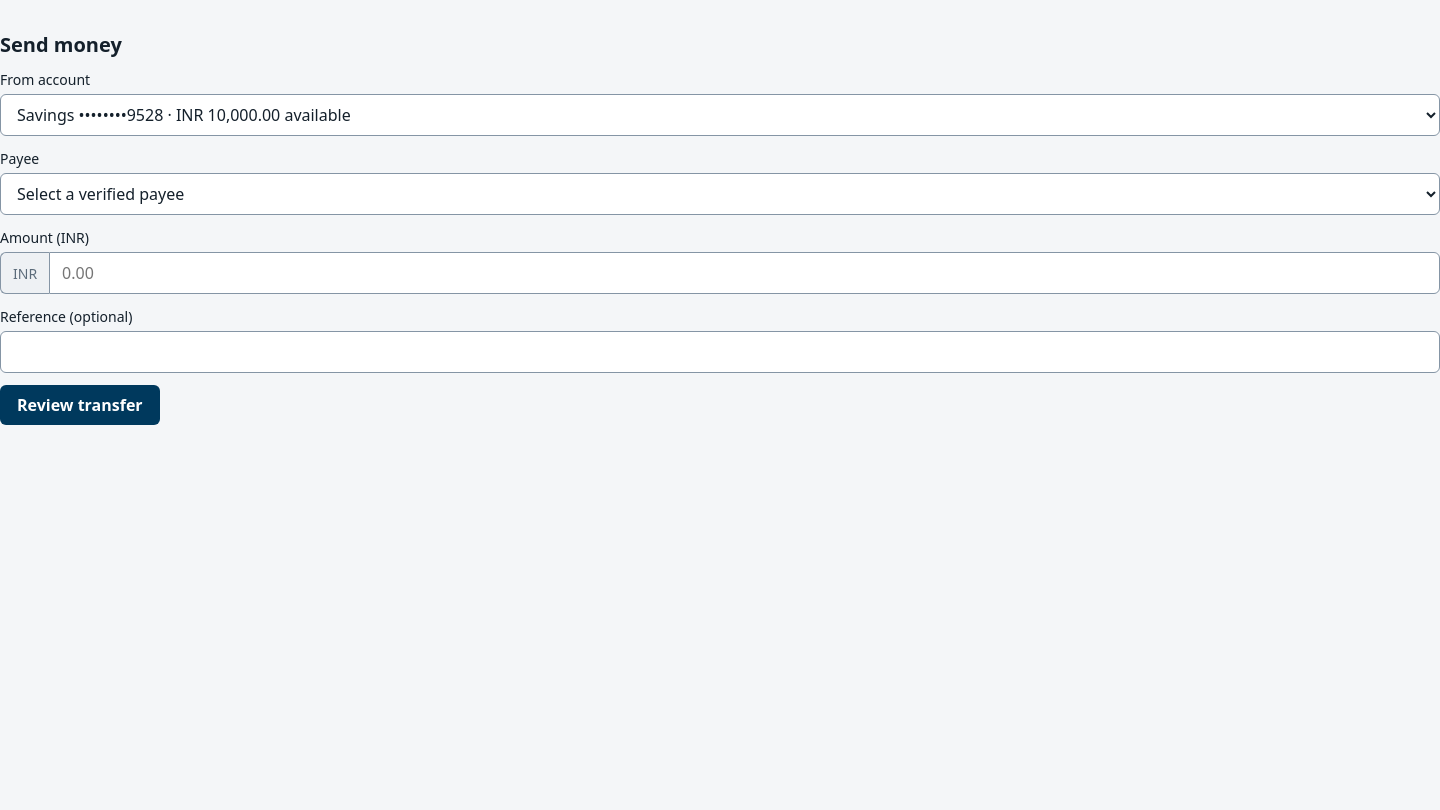
Test: SendMoney › closes the modal and says the transfer is under review when the server escalates
The width and height of the screenshot is (1440, 810).
Step 1. Select "Savings ••••••••9528 · INR 10,000.00 available" in the dropdown labelled "From account" → (720, 115), box [0,94,1439,136]
Step 2. Select "Bob Demo (••••••••2621)" in the dropdown labelled "Payee" → (720, 194), box [0,173,1439,215]
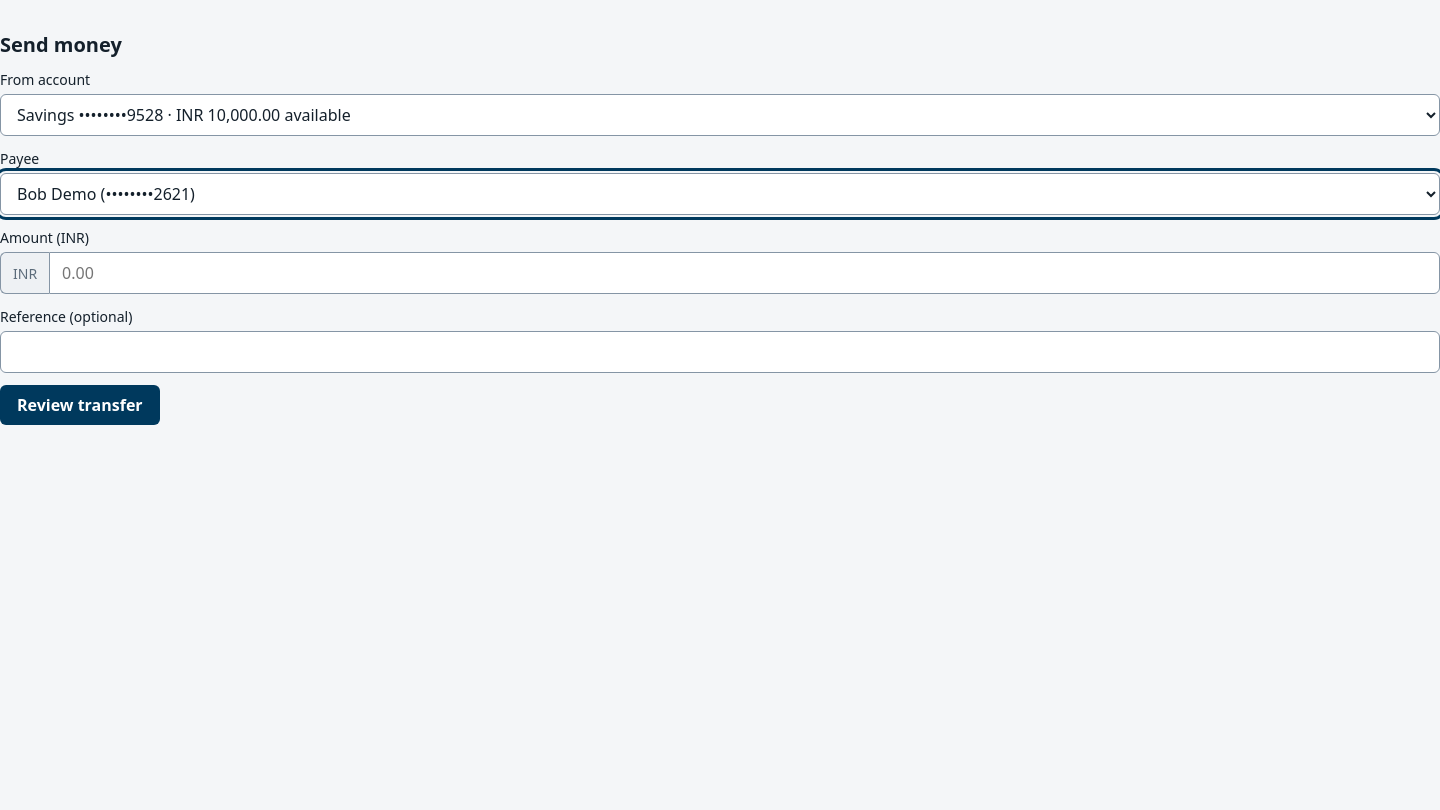
Step 3. Type "300" into the field labelled "Amount (INR)" → (745, 273), box [49,252,1439,294]
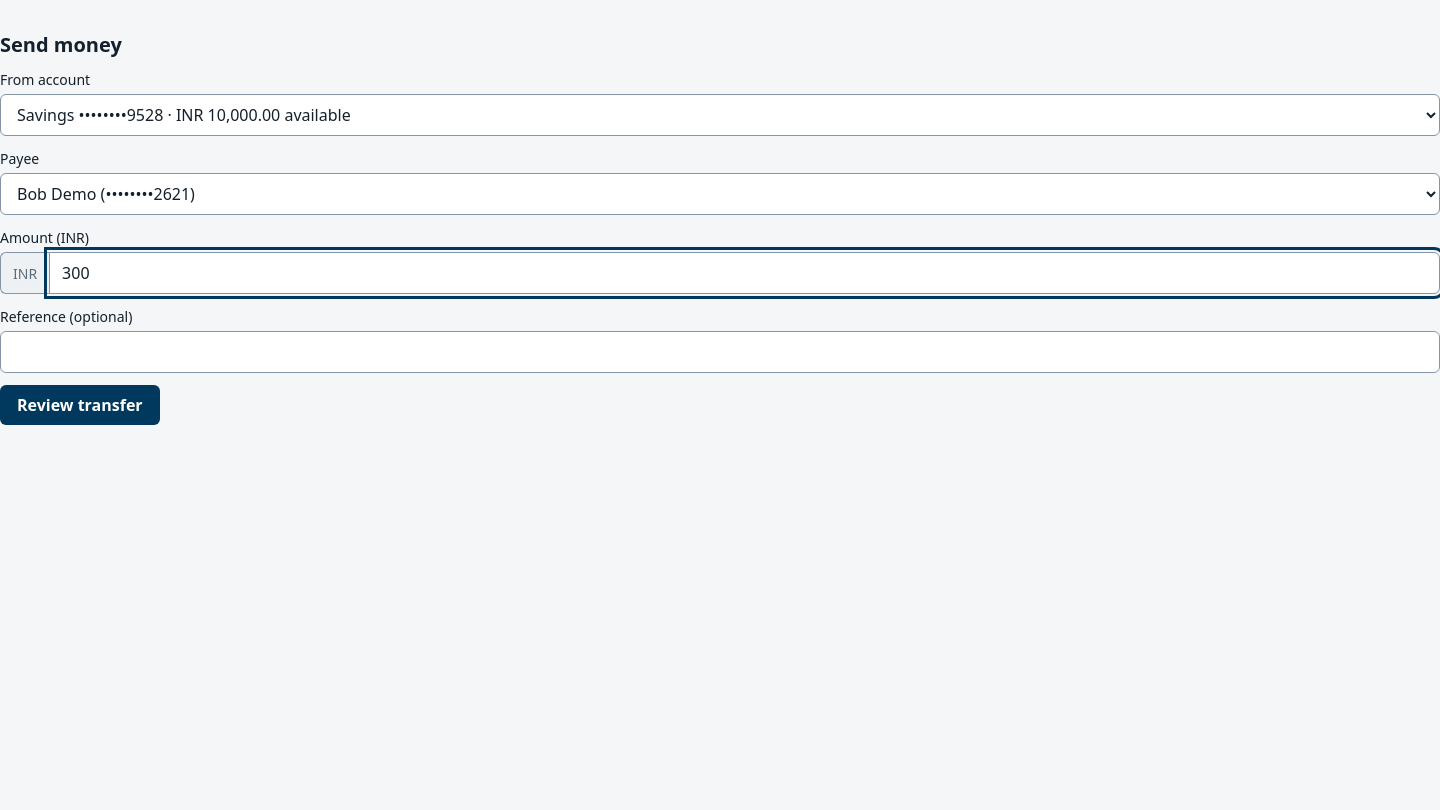
Step 4. Type "rent" into the field labelled "Reference (optional)" → (720, 352), box [0,331,1439,373]
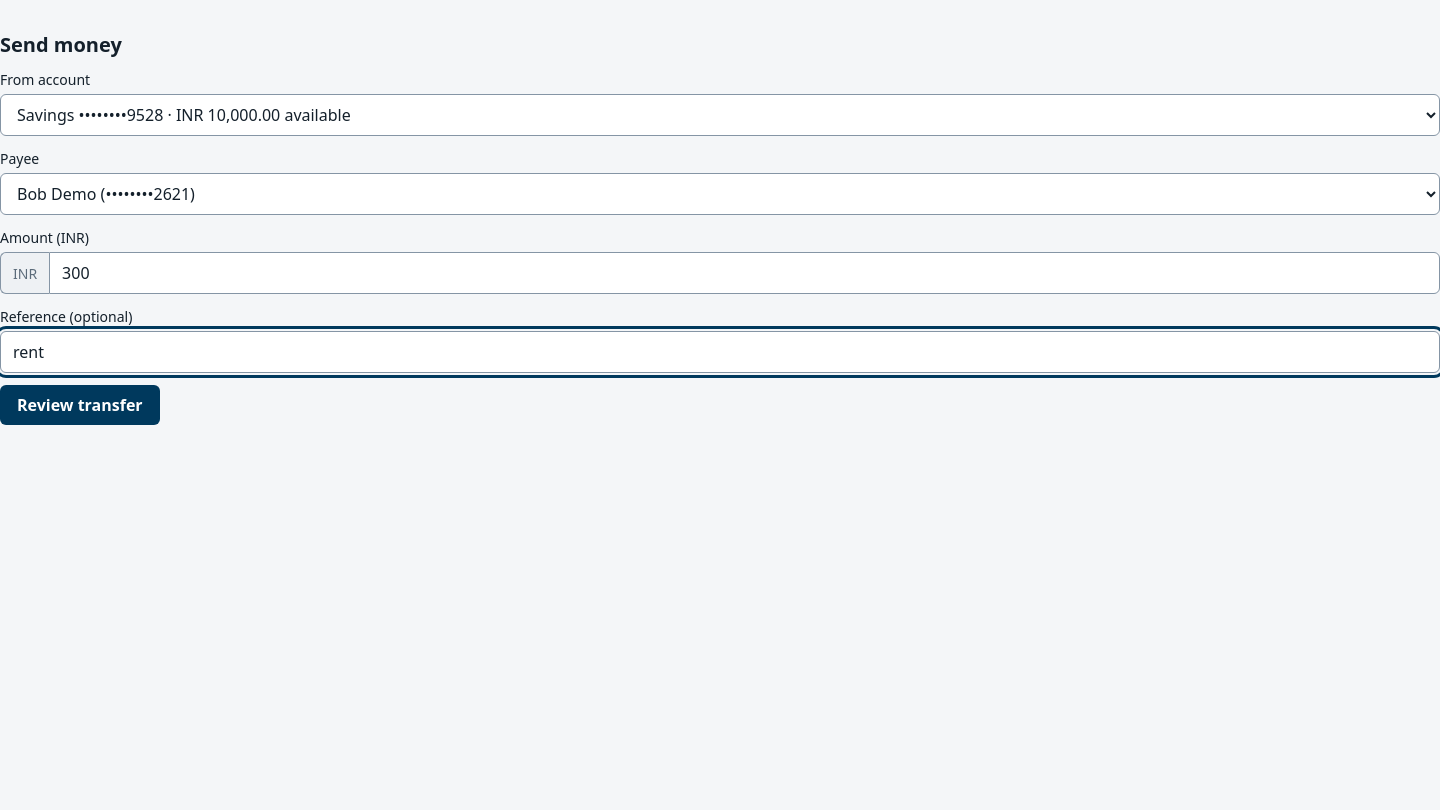
Step 5. Click the button "Review transfer" → (80, 405), box [0,385,160,425]
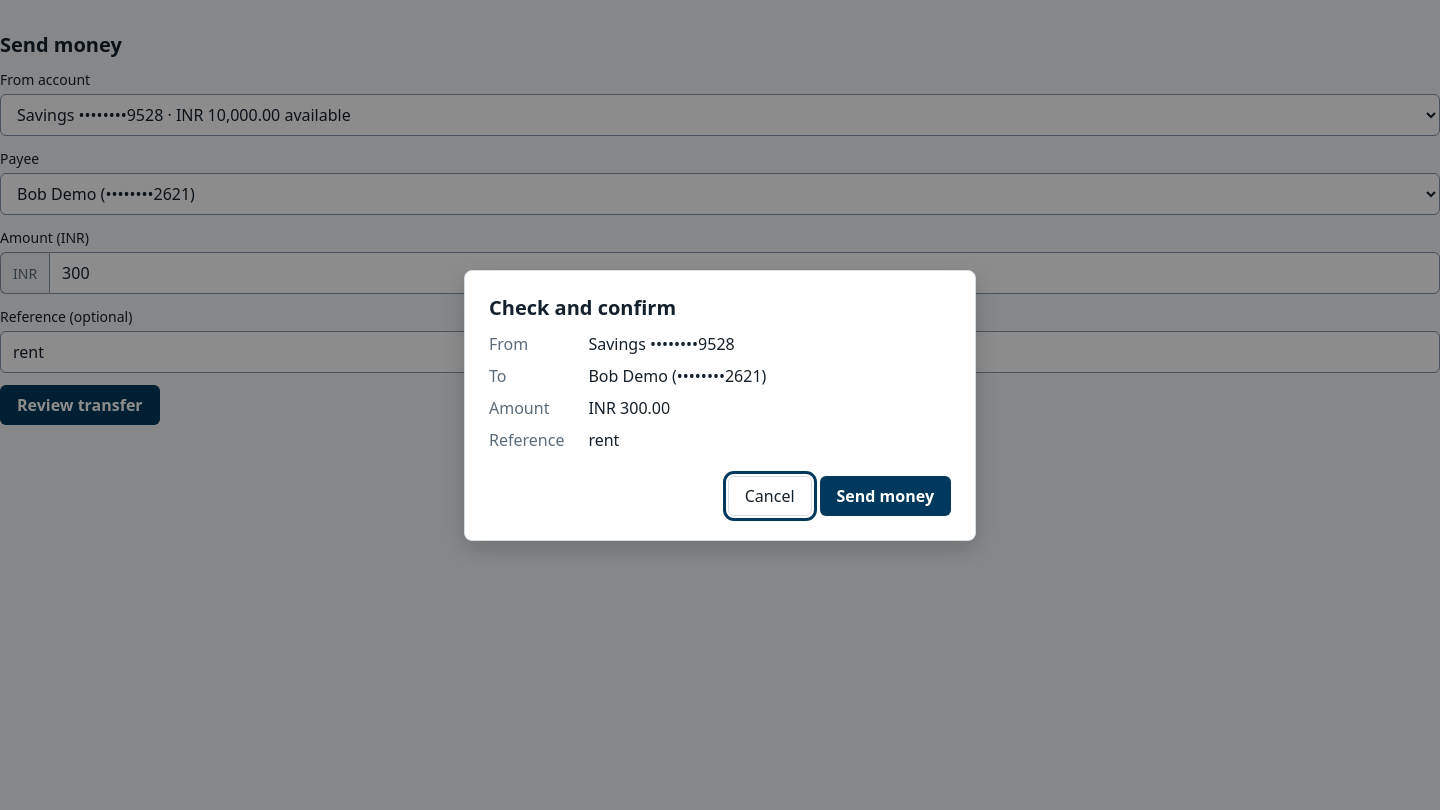
Check: the text "Bob Demo (••••••••2621)" is shown, box [588,364,766,386]
Step 6. Click the button "Send money" → (885, 496), box [820,476,951,516]
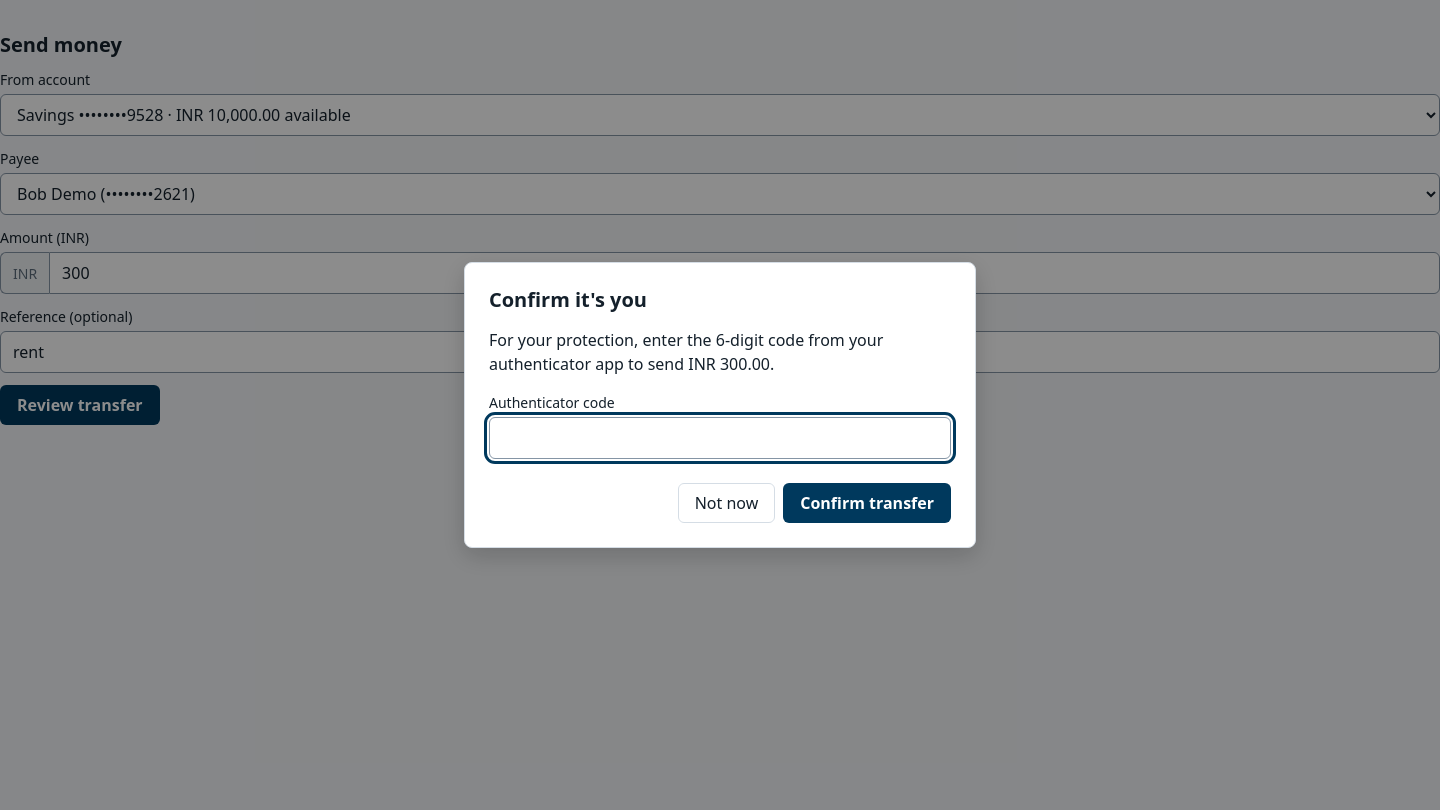
Step 7. Type "333333" into the field labelled "Authenticator code" → (720, 438), box [489,417,951,459]
Step 8. Click the button "Confirm transfer" → (867, 503), box [783,483,951,523]
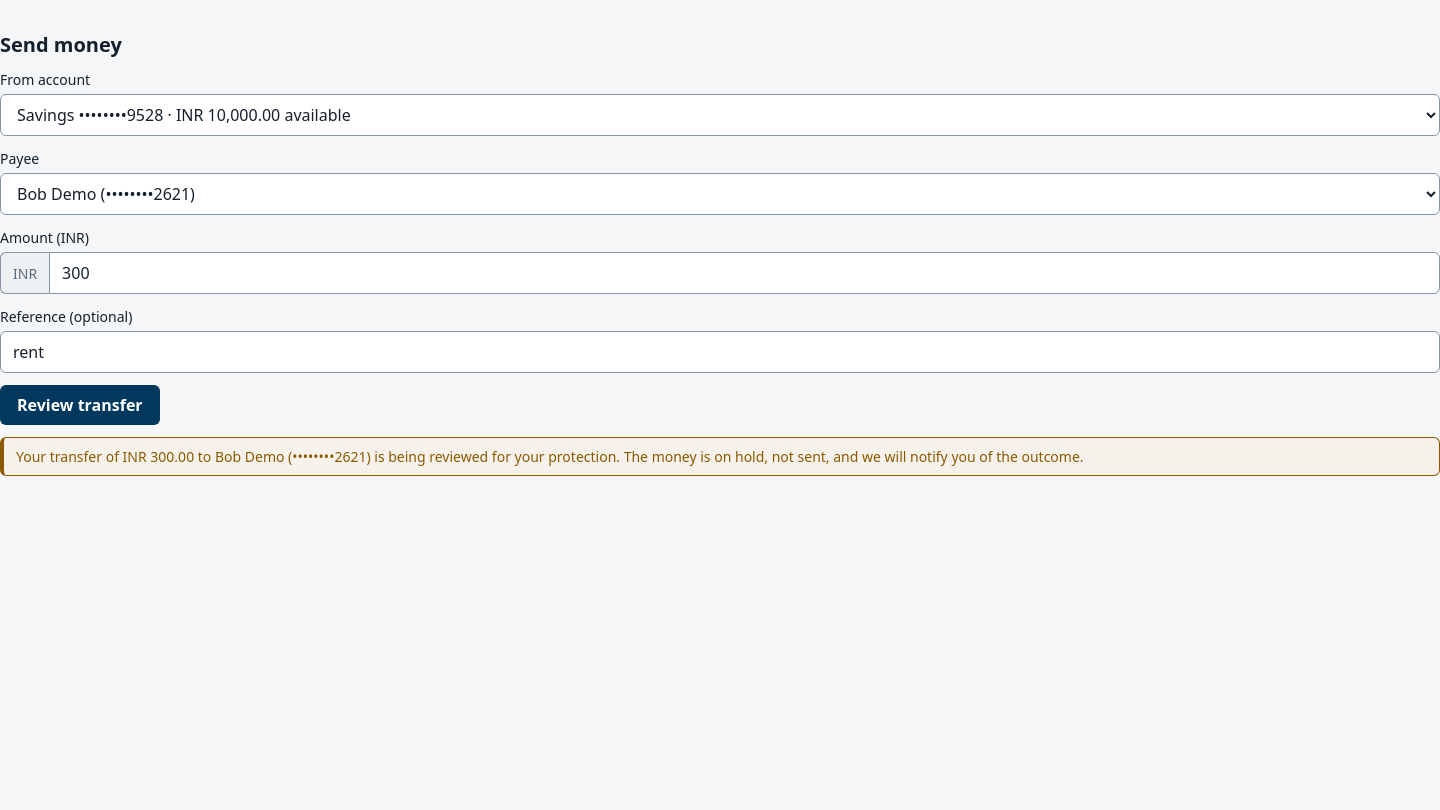
Check: the text "being reviewed for your protection" is shown, box [371,447,1084,466]
Check: the heading "Confirm it's you" is gone
